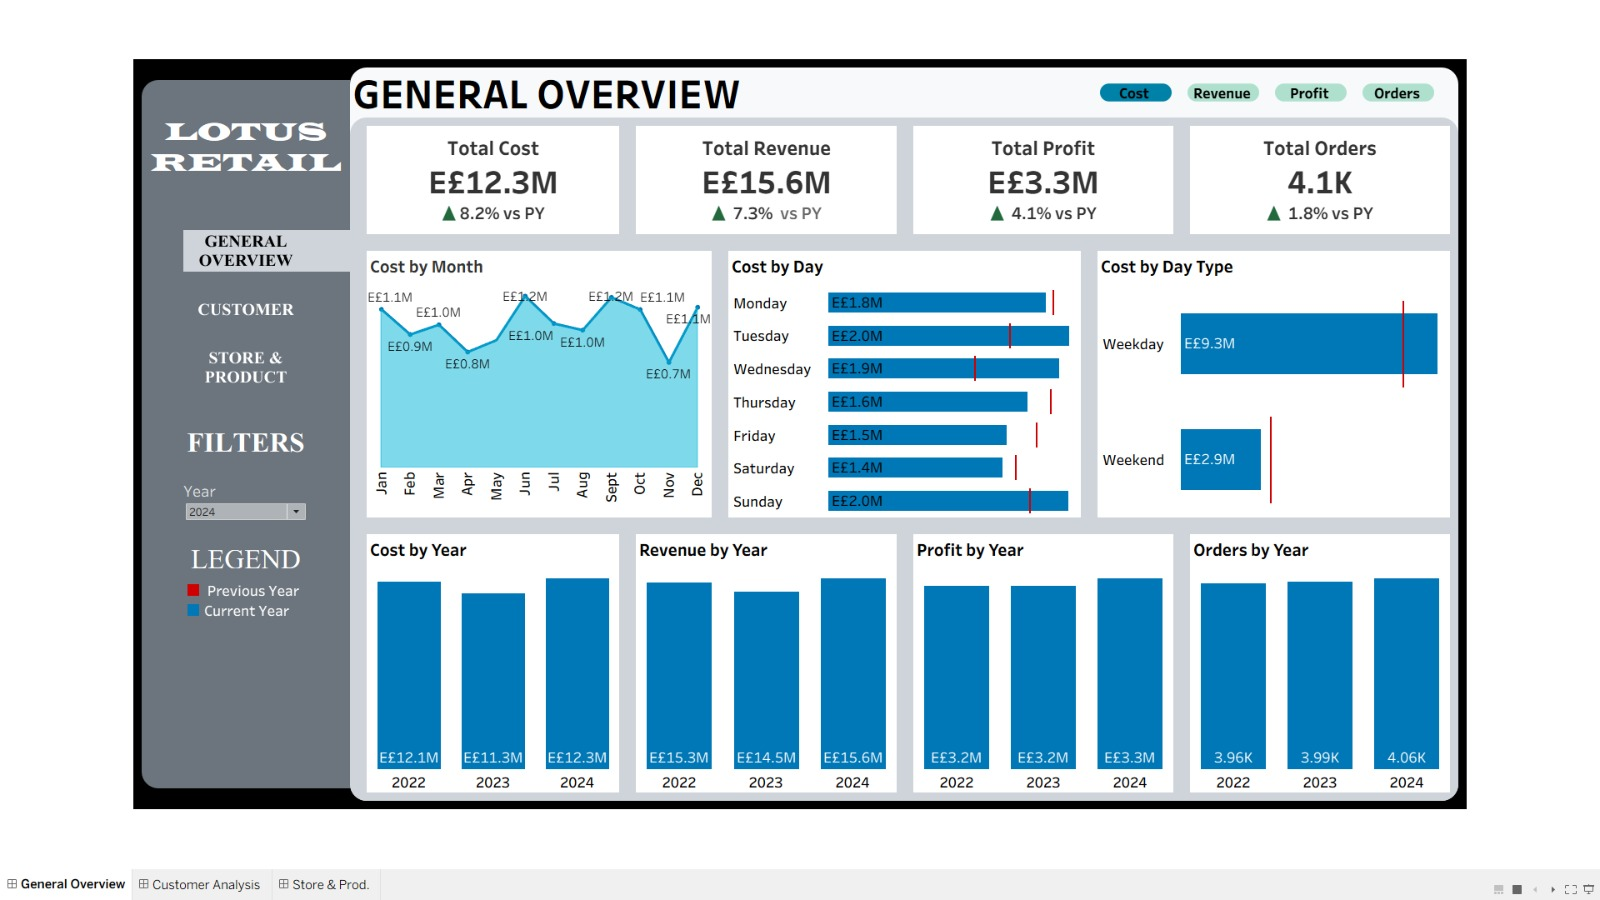

This screenshot's page, from the dashboard's own definition file:
{"tool":"tableau","page":{"name":"General Overview","canvas":[1600,900],"ordinal":1},"visuals":[{"type":"text","box":[260,10,890,60]},{"type":"worksheet","title":"Buttons","mark":"Shape","cols":["Calculation_0874970443321350","Calculation_0874970443321350","Calculation_0874970443321350","Calculation_0874970443321350"],"box":[1150,10,420,60]},{"type":"blank","box":[10,25,250,10]},{"type":"text","box":[10,35,250,140]},{"type":"worksheet","title":"Cost","mark":"Automatic","box":[280,80,303,130]},{"type":"worksheet","title":"Rev.","mark":"Automatic","box":[603,80,313,130]},{"type":"worksheet","title":"Profit","mark":"Automatic","box":[936,80,312,130]},{"type":"worksheet","title":"Orders","mark":"Automatic","box":[1268,80,312,130]},{"type":"blank","box":[10,175,250,30]},{"type":"dashboard-object","box":[60,205,200,50]},{"type":"worksheet","title":"Trend","mark":"Automatic","rows":["Calculation_0373592491970560","Calculation_0373592491970560"],"cols":["order_date"],"box":[280,230,414,320]},{"type":"worksheet","title":"Day","mark":"Automatic","rows":["day_name"],"cols":["Calculation_0373592491970560","Calculation_0373592493252610"],"box":[714,230,423,320]},{"type":"worksheet","title":"Day Type","mark":"Automatic","rows":["Calculation_1225439492292635"],"cols":["Calculation_0373592491970560","Calculation_0373592493252610"],"box":[1157,230,423,320]},{"type":"blank","box":[10,255,250,20]},{"type":"dashboard-object","box":[60,275,150,50]},{"type":"blank","box":[10,325,250,20]},{"type":"dashboard-object","box":[60,345,150,50]},{"type":"blank","box":[10,395,250,50]},{"type":"text","box":[10,445,250,30]},{"type":"blank","box":[10,475,250,30]},{"type":"parameter","param":"[Parameters].[Parameter 1297182227197959]","box":[60,505,150,50]},{"type":"blank","box":[10,555,250,30]},{"type":"worksheet","title":"Cost by Year","mark":"Bar","rows":["total_cost"],"cols":["order_date"],"box":[280,570,303,310]},{"type":"worksheet","title":"Revenue by Year","mark":"Bar","rows":["total_revenue"],"cols":["order_date"],"box":[603,570,313,310]},{"type":"worksheet","title":"Profit by Year","mark":"Bar","rows":["Calculation_1297182225489924"],"cols":["order_date"],"box":[936,570,312,310]},{"type":"worksheet","title":"Orders by Year","mark":"Bar","rows":["order_id"],"cols":["order_date"],"box":[1268,570,312,310]},{"type":"text","box":[10,585,250,30]},{"type":"blank","box":[10,615,250,10]},{"type":"legend","title":"Day","param":"[federated.0mt75gr1jol0vg19zrq0202gwl9p].[:Measure Names]","box":[60,625,150,50]}]}

Visuals, with their boxes on the page's 1600x900 design canvas (x1, y1, x2, y2). These are canvas units, not pixel positions in the 1600x900 screenshot, which may show the page scaled, cropped or inside an application window:
text: [260, 10, 1150, 70]
"Buttons" worksheet (Shape marks): [1150, 10, 1570, 70]
blank: [10, 25, 260, 35]
text: [10, 35, 260, 175]
"Cost" worksheet: [280, 80, 583, 210]
"Rev." worksheet: [603, 80, 916, 210]
"Profit" worksheet: [936, 80, 1248, 210]
"Orders" worksheet: [1268, 80, 1580, 210]
blank: [10, 175, 260, 205]
dashboard-object: [60, 205, 260, 255]
"Trend" worksheet: [280, 230, 694, 550]
"Day" worksheet: [714, 230, 1137, 550]
"Day Type" worksheet: [1157, 230, 1580, 550]
blank: [10, 255, 260, 275]
dashboard-object: [60, 275, 210, 325]
blank: [10, 325, 260, 345]
dashboard-object: [60, 345, 210, 395]
blank: [10, 395, 260, 445]
text: [10, 445, 260, 475]
blank: [10, 475, 260, 505]
parameter: [60, 505, 210, 555]
blank: [10, 555, 260, 585]
"Cost by Year" worksheet (Bar marks): [280, 570, 583, 880]
"Revenue by Year" worksheet (Bar marks): [603, 570, 916, 880]
"Profit by Year" worksheet (Bar marks): [936, 570, 1248, 880]
"Orders by Year" worksheet (Bar marks): [1268, 570, 1580, 880]
text: [10, 585, 260, 615]
blank: [10, 615, 260, 625]
"Day" legend: [60, 625, 210, 675]
